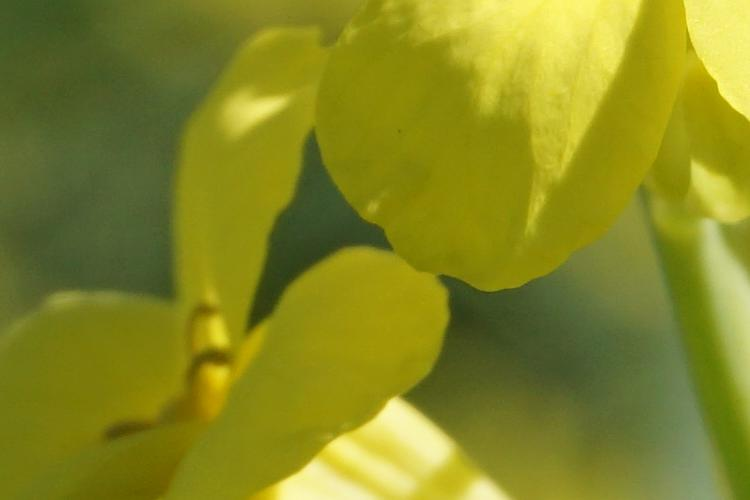yellow: (61, 147, 431, 484), (335, 27, 723, 284)
